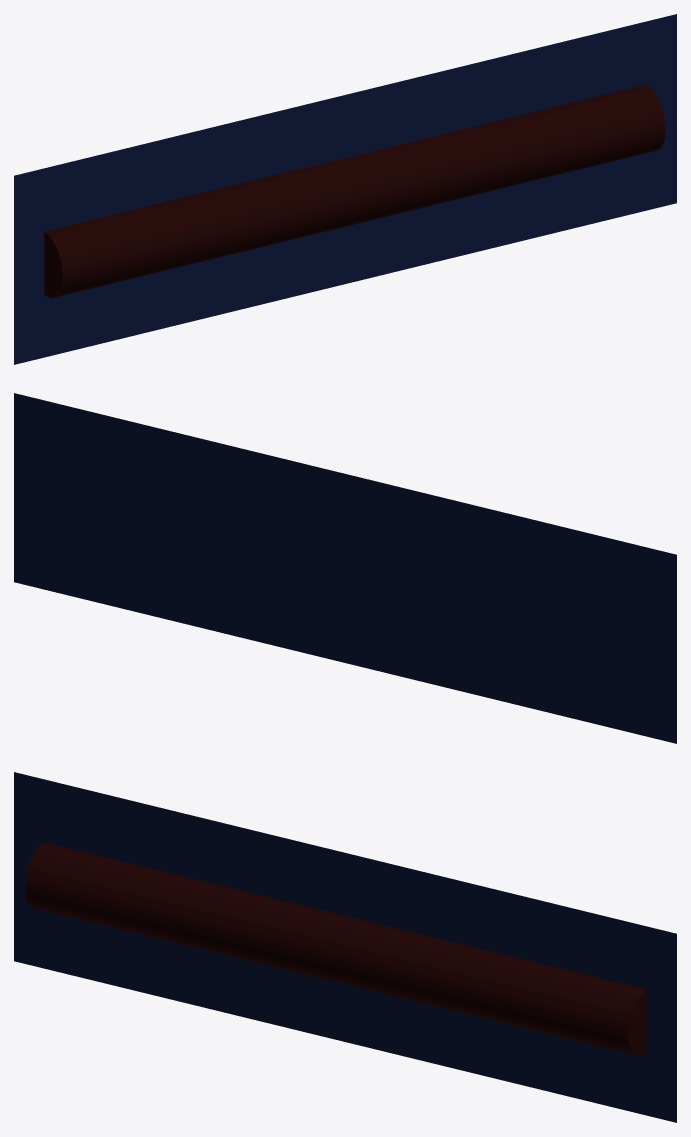
The model's file is neon.fbx.
3 views of the same model, one above another, from view 1: azimuth 30°, elevation 25°; view 2: azimuth 150°, elevation 25°; view 3: azimuth 330°, elevation 25° (orthographic).
Parts seen in each view (by area): view 1: neon; view 2: neon; view 3: neon.
Boxes of the visible parts, x1,y1,x2,y2 form: neon: [14, 14, 676, 364]; neon: [14, 393, 676, 743]; neon: [14, 772, 676, 1122].
Size of the model in its own units: 11 by 3 by 0.54.
